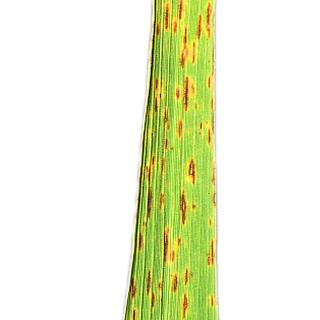Bercak-Cokelat-Sempit: (139, 156, 163, 222), (129, 267, 153, 320), (167, 270, 197, 310), (173, 73, 197, 113), (171, 190, 195, 227), (160, 227, 181, 267), (204, 71, 221, 111), (179, 36, 199, 66), (145, 81, 166, 109), (173, 1, 191, 33), (199, 120, 218, 149), (197, 2, 211, 41), (175, 120, 191, 148), (186, 156, 203, 181), (159, 2, 171, 33), (206, 293, 220, 312), (135, 231, 148, 250), (209, 242, 216, 274), (154, 20, 163, 38)
